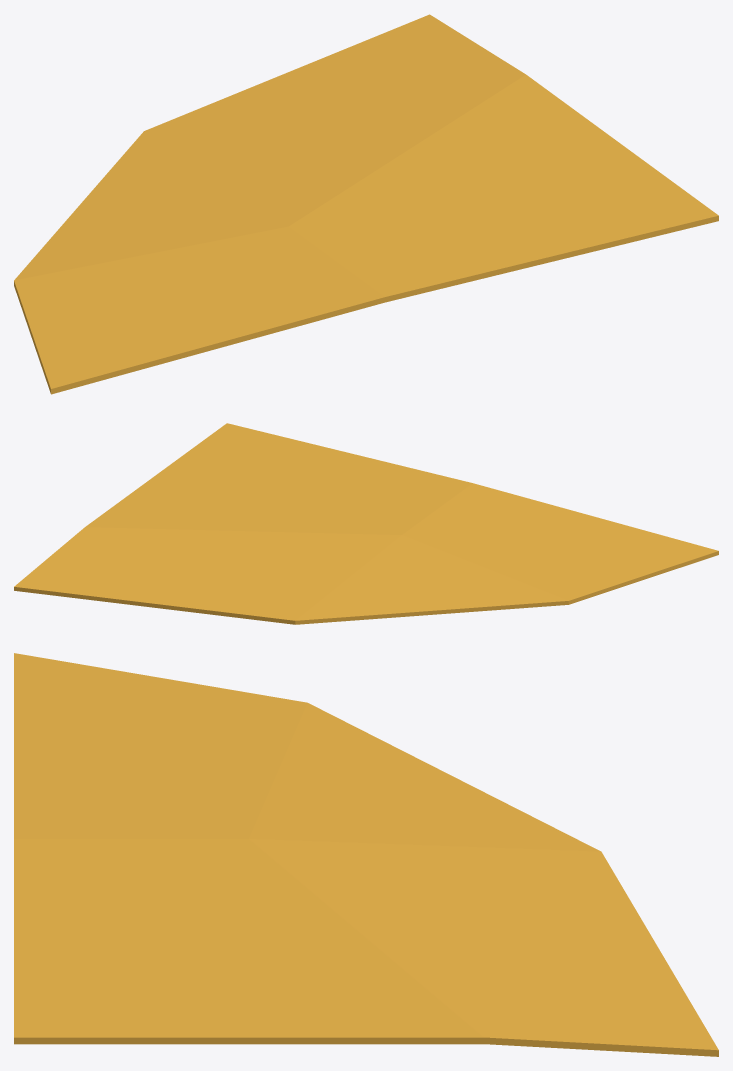
3 renders of one model, top to bottom at view 1: azimuth 30°, elevation 25°; view 2: azimuth 150°, elevation 25°; view 3: azimuth 270°, elevation 25°, orthographic. The views are drawn at different scales.
Visible parts, largest first — view 1: 01_street_base_plate-COL.021; view 2: 01_street_base_plate-COL.021; view 3: 01_street_base_plate-COL.021.
Boxes of the visible parts, left/top/right/bottom form: 01_street_base_plate-COL.021: left=14, top=14, right=718, bottom=394; 01_street_base_plate-COL.021: left=14, top=423, right=718, bottom=624; 01_street_base_plate-COL.021: left=14, top=653, right=718, bottom=1056.
Size of the model in its own units: 128 by 2.92 by 96.
